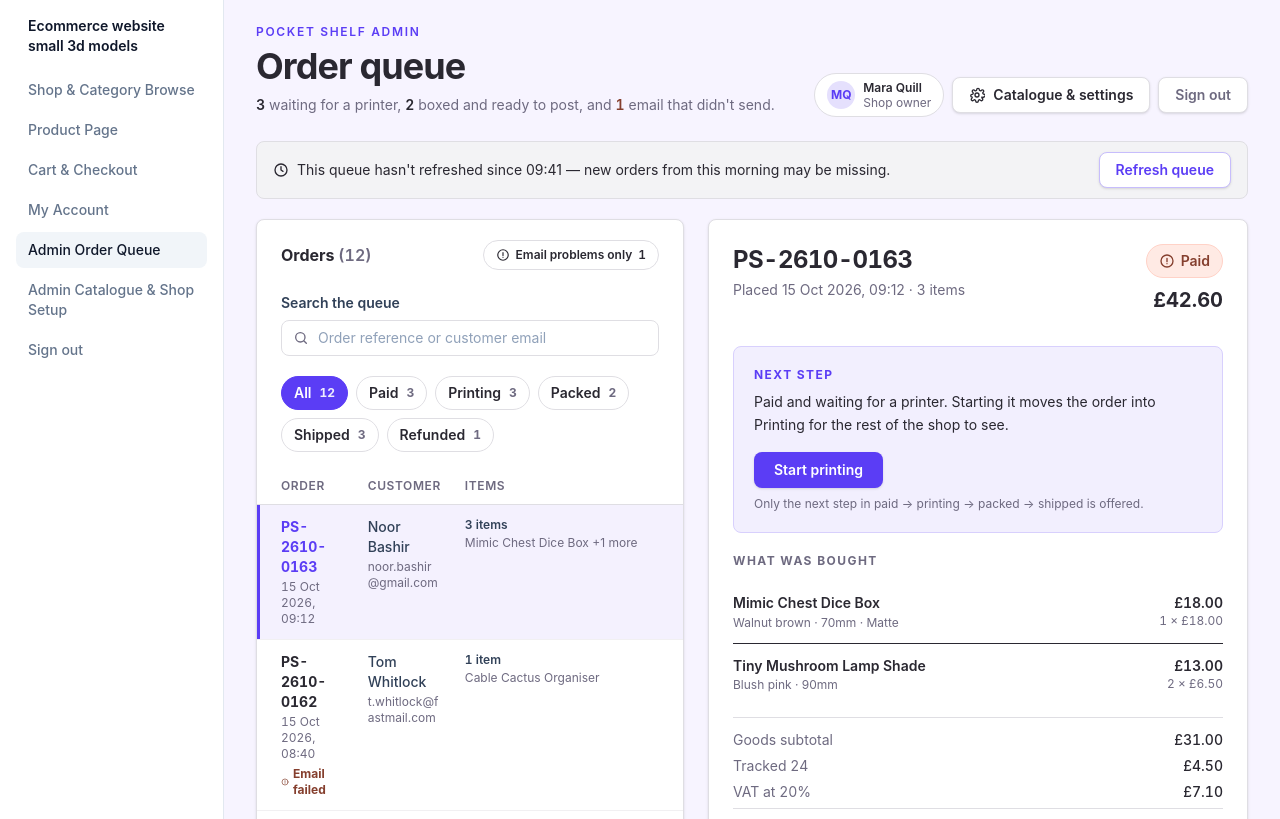
Test: admin route guard › sign-out clears the staff token and lands back on sign-in
Click the button "Sign out" below "Admin Catalogue & Shop Setup".
click(112, 350)  # box [16,332,207,368]
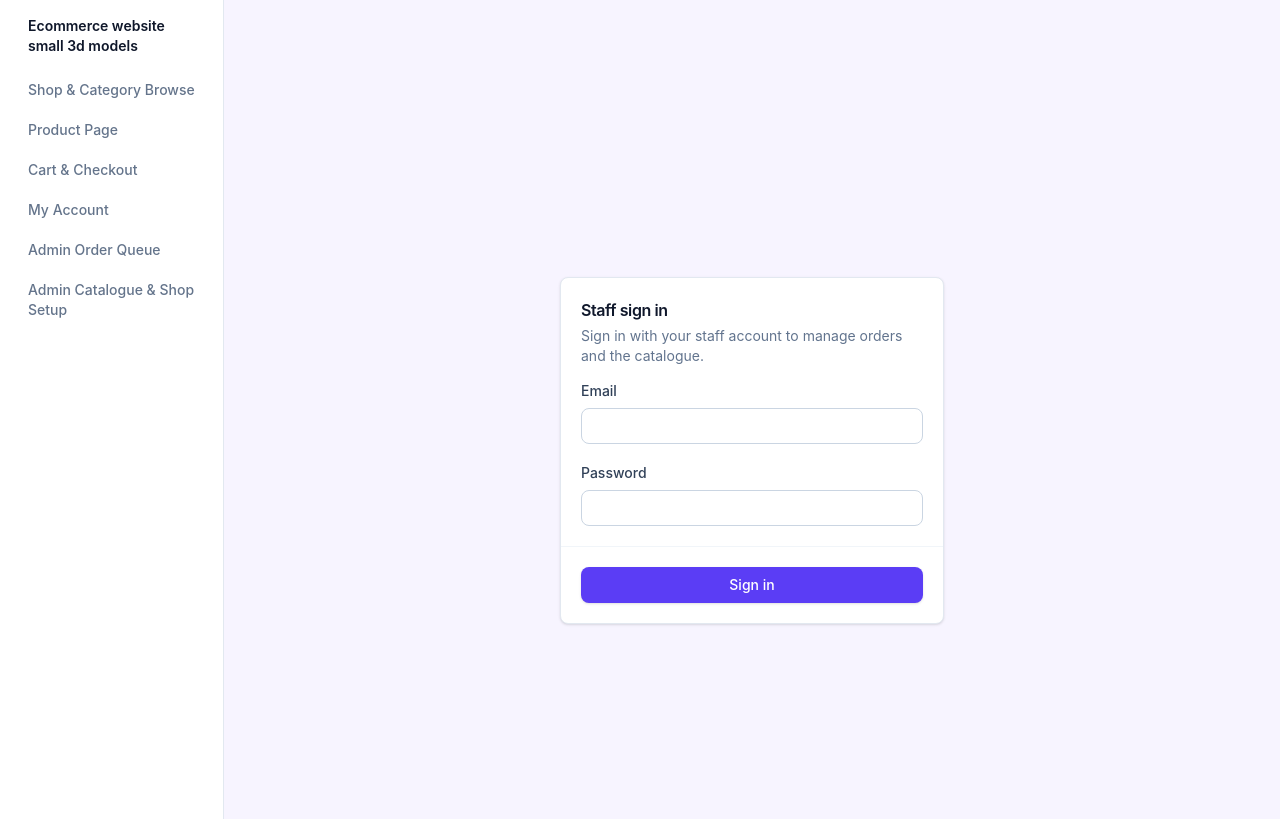
Check: the heading "Staff sign in" is shown, box [581,300,668,320]
